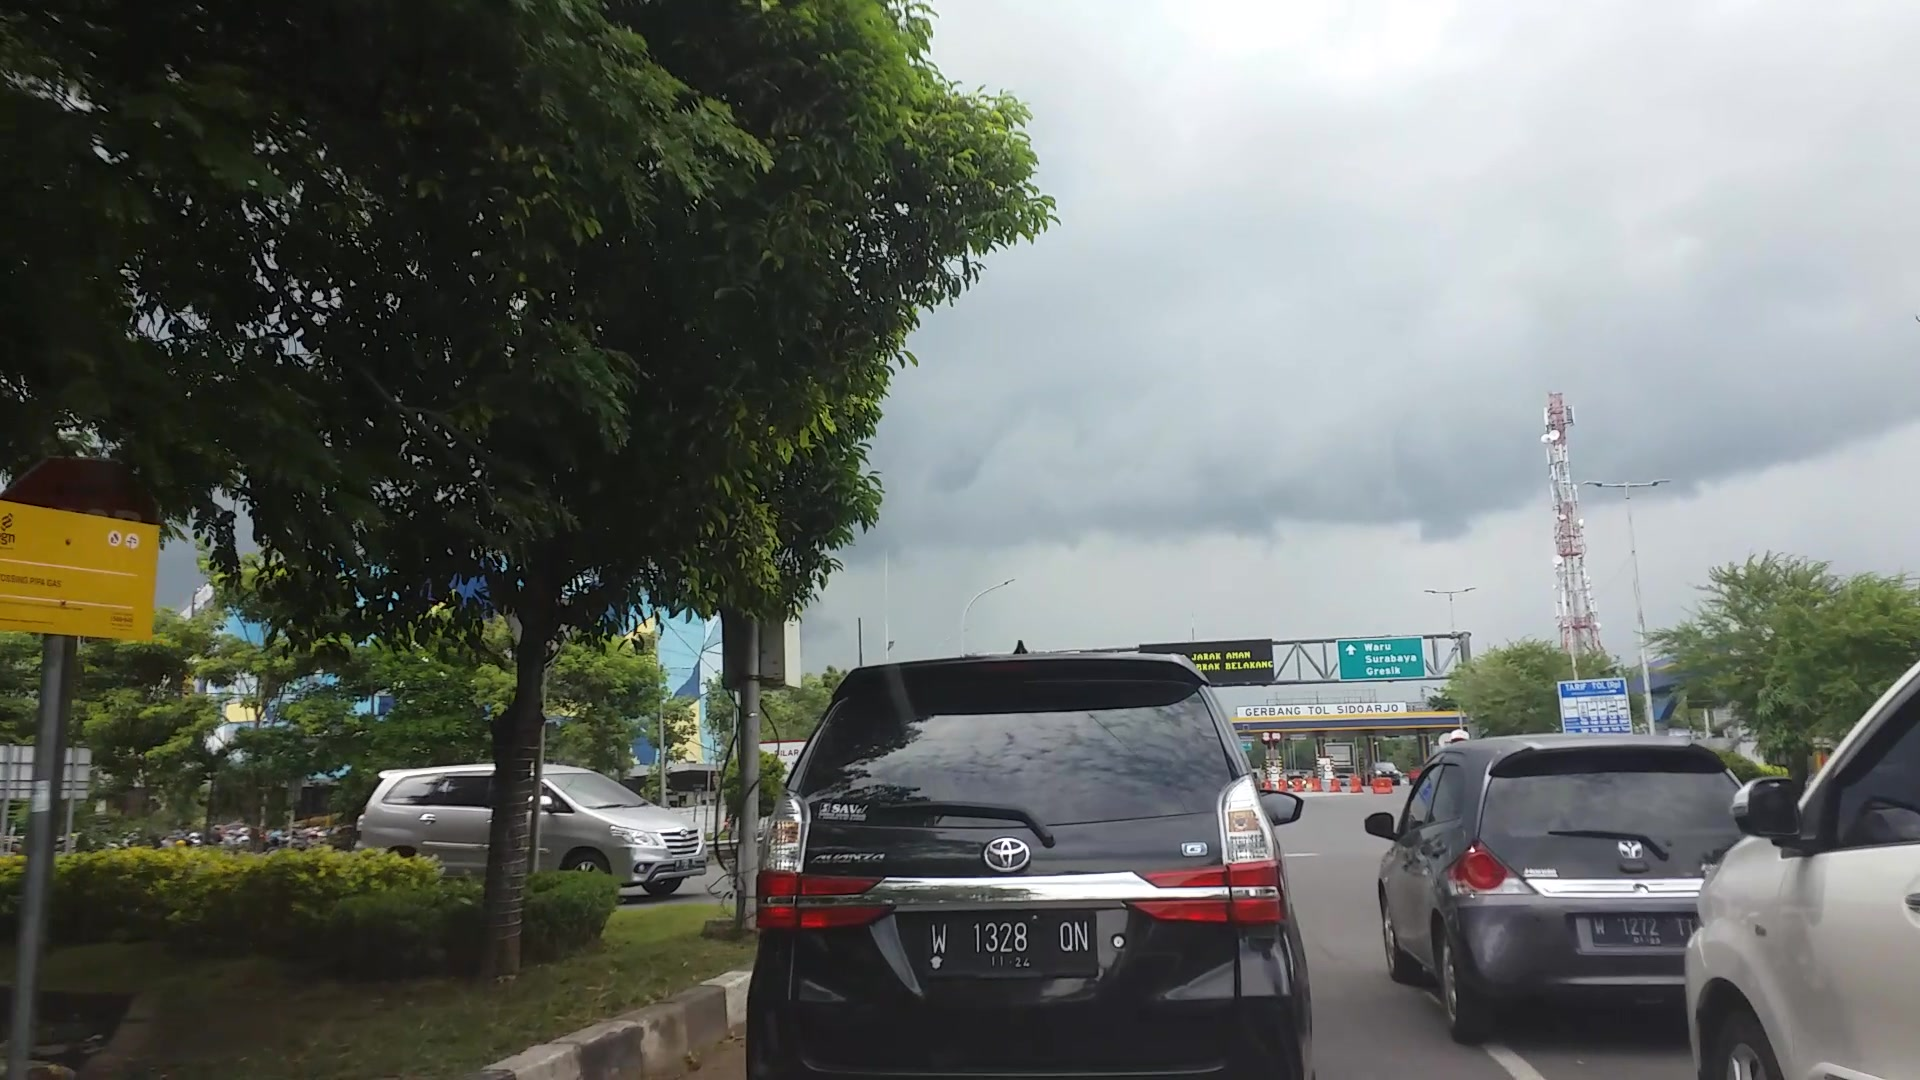plate_positive: (923, 911, 1098, 978)
